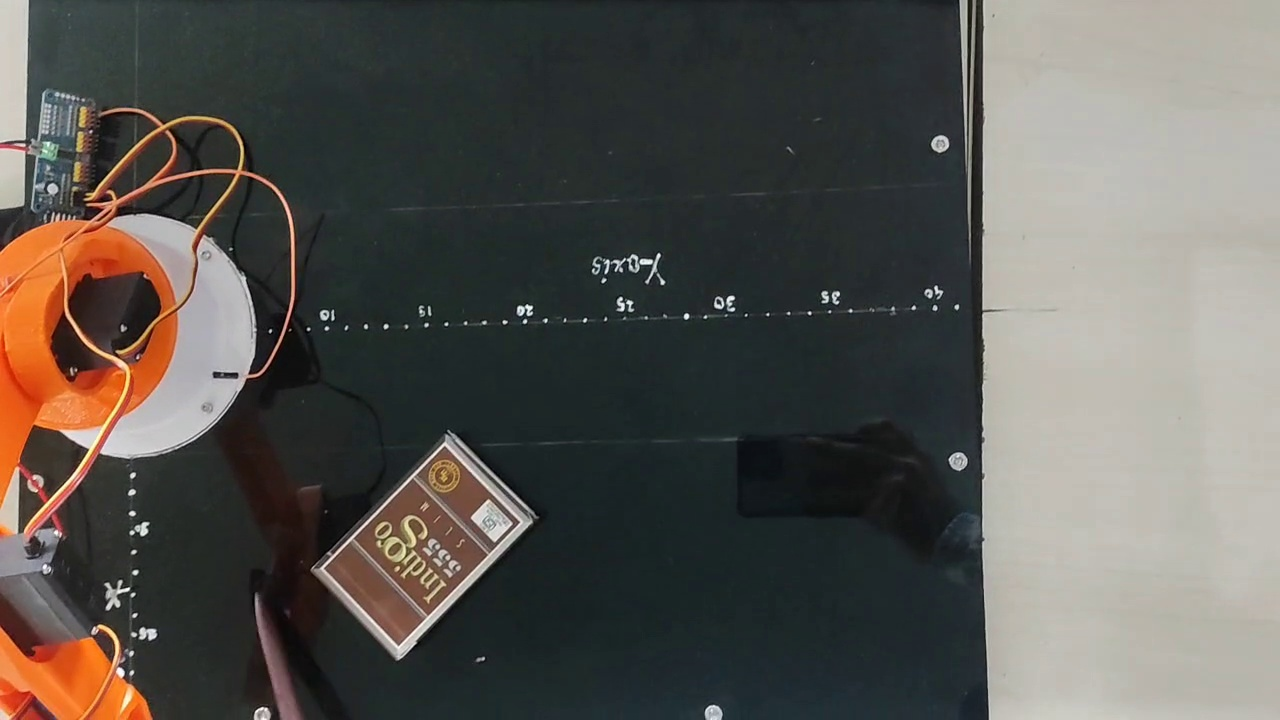BEX: (321, 441, 522, 652)
